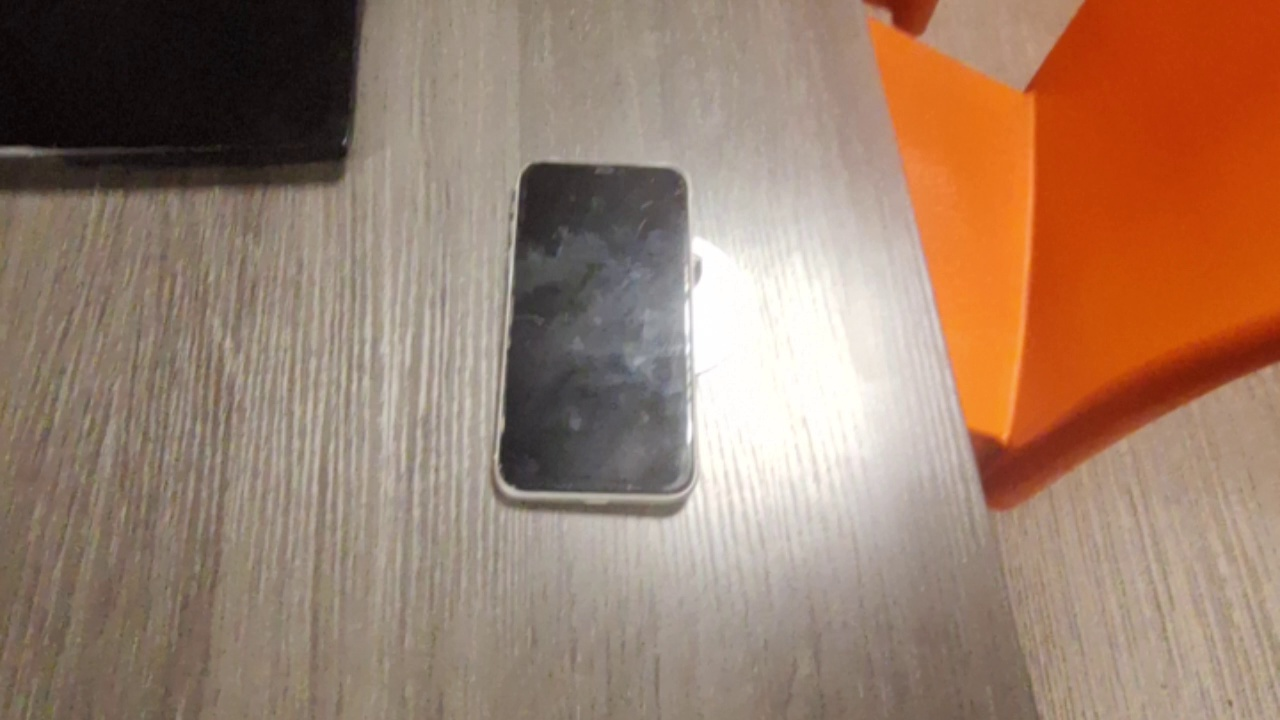celular: (494, 161, 699, 516)
